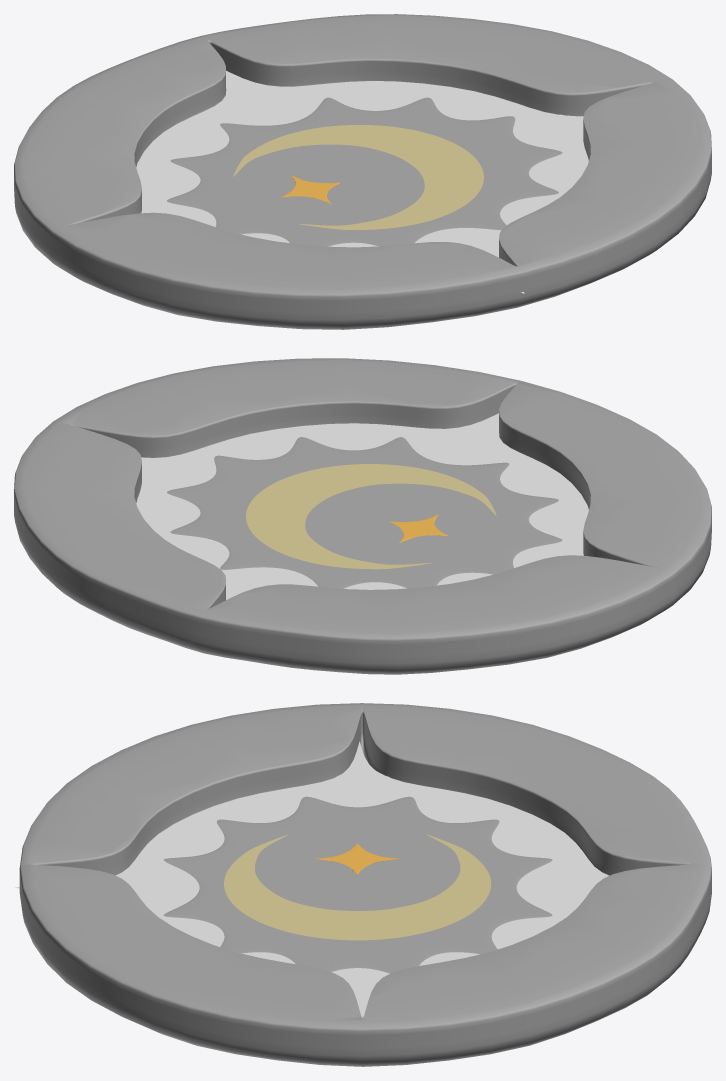
Rendered from CENARIO 2 FINAL.fbx.
3 views of the same model, one above another, from view 1: azimuth 30°, elevation 25°; view 2: azimuth 150°, elevation 25°; view 3: azimuth 270°, elevation 25° (orthographic). The views are drawn at different scales.
Parts seen in each view (by area): view 1: BASE.001, ESTRELA.001, Circle.002, LUA.001, ESTRELA MEN0R.001; view 2: BASE.001, ESTRELA.001, Circle.002, LUA.001, ESTRELA MEN0R.001; view 3: BASE.001, ESTRELA.001, Circle.002, LUA.001, ESTRELA MEN0R.001.
Boxes of the visible parts, x1,y1,x2,y2 form: BASE.001: [14, 14, 711, 329]; ESTRELA.001: [167, 97, 562, 246]; Circle.002: [136, 70, 588, 293]; LUA.001: [233, 125, 483, 229]; ESTRELA MEN0R.001: [282, 175, 340, 203]; BASE.001: [14, 358, 711, 674]; ESTRELA.001: [167, 437, 562, 588]; Circle.002: [136, 413, 588, 599]; LUA.001: [246, 464, 496, 569]; ESTRELA MEN0R.001: [389, 514, 448, 542]; BASE.001: [19, 703, 711, 1066]; ESTRELA.001: [163, 796, 552, 973]; Circle.002: [15, 741, 609, 1017]; LUA.001: [224, 834, 491, 940]; ESTRELA MEN0R.001: [315, 843, 399, 874].
Bounding box in the file's own units: 392 × 34.67 × 355.
